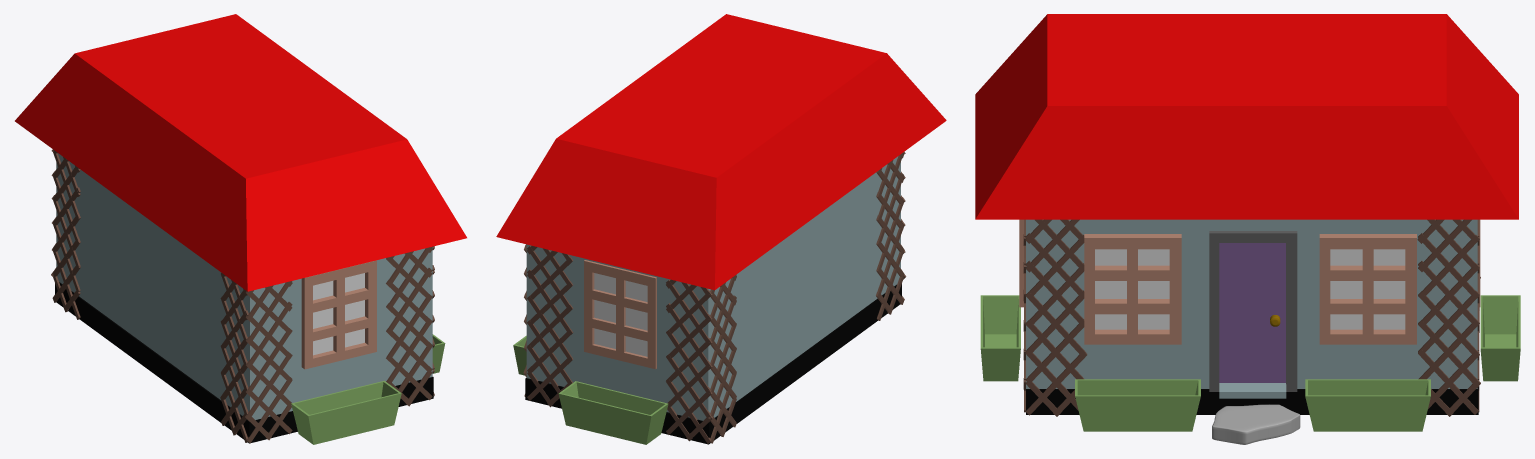
File: Cottage 1.fbx
The picture shows the model from 3 angles, left to right: view 1: azimuth 30°, elevation 25°; view 2: azimuth 150°, elevation 25°; view 3: azimuth 270°, elevation 25°; orthographic projection. The views are drawn at different scales.
Visible parts, largest first — view 1: polySurface302; view 2: polySurface302; view 3: polySurface302.
Boxes of the visible parts, x1,y1,x2,y2 form: polySurface302: [15, 14, 466, 444]; polySurface302: [496, 14, 946, 444]; polySurface302: [975, 14, 1520, 444].
Bounding box in the file's own units: 471 × 440 × 724.
